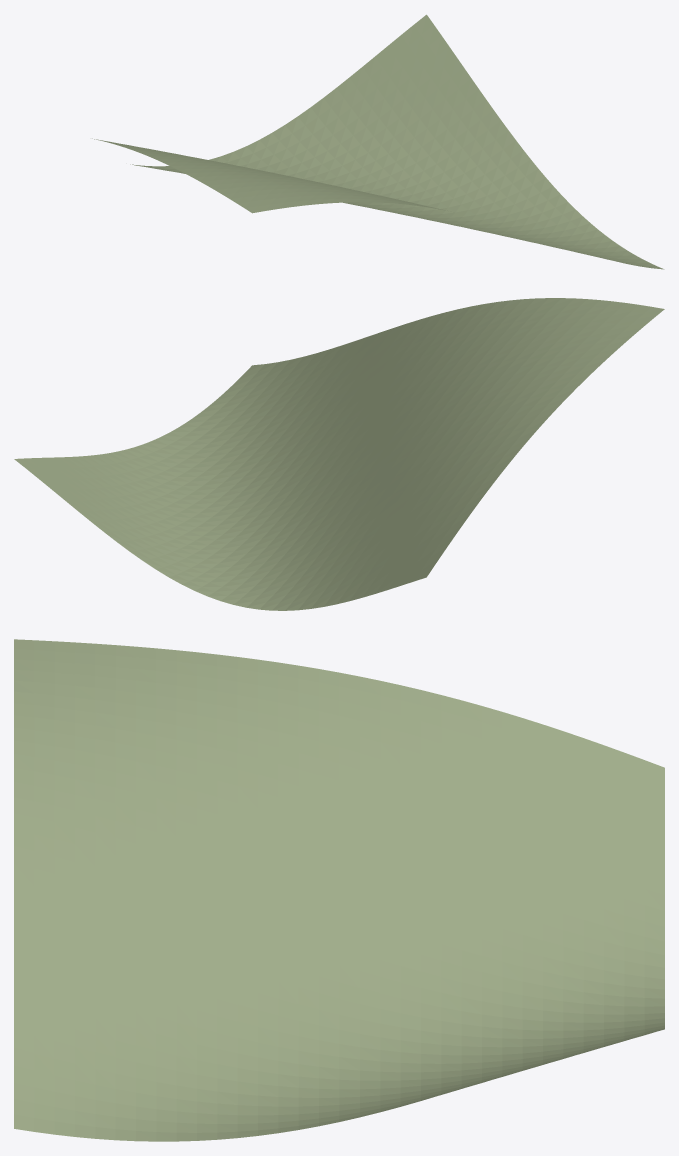
File: expanse-14-0.glb
3 renders of one model, top to bottom at view 1: azimuth 30°, elevation 25°; view 2: azimuth 150°, elevation 25°; view 3: azimuth 270°, elevation 25°, orthographic. The views are drawn at different scales.
Visible parts, largest first — view 1: expanse-14-0; view 2: expanse-14-0; view 3: expanse-14-0.
Part boxes in pixels (bbox=[...]): expanse-14-0: bbox=[92, 14, 664, 269]; expanse-14-0: bbox=[14, 298, 664, 610]; expanse-14-0: bbox=[14, 639, 664, 1141].
Size of the model in its own units: 256 by 99.92 by 256.
